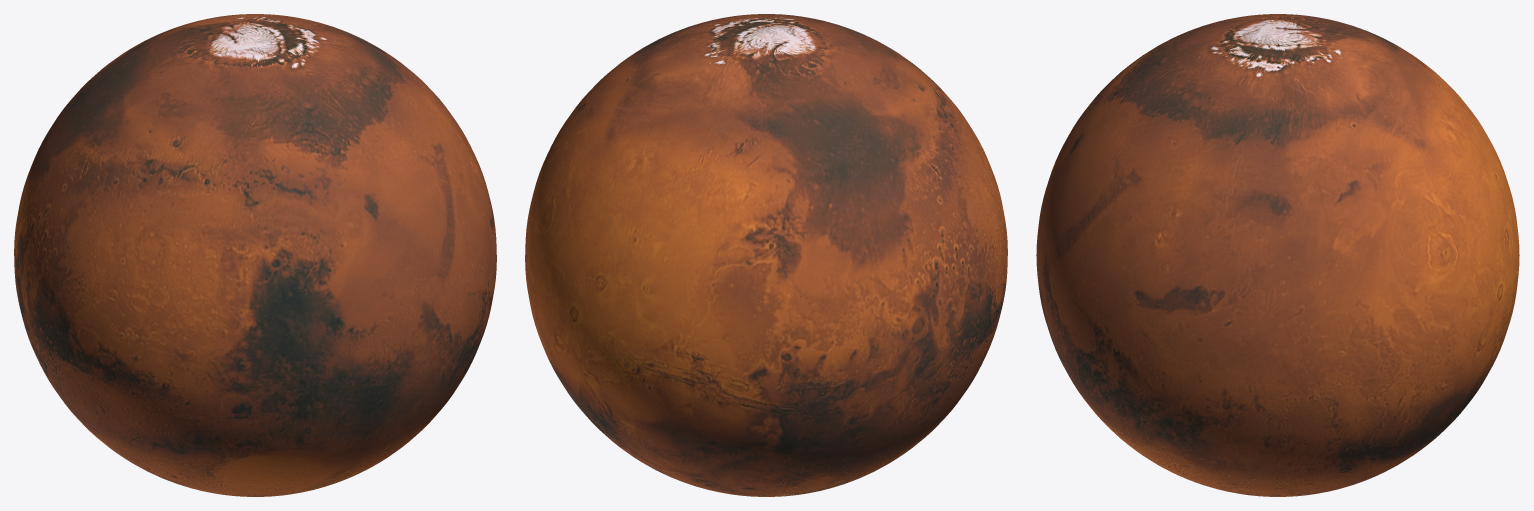
Rendered from mars.obj.
3 renders of one model, left to right at view 1: azimuth 30°, elevation 25°; view 2: azimuth 150°, elevation 25°; view 3: azimuth 270°, elevation 25°, orthographic.
Parts seen in each view (by area): view 1: Sphere.002_Sphere; view 2: Sphere.002_Sphere; view 3: Sphere.002_Sphere.
Boxes of the visible parts, x1=… form: Sphere.002_Sphere: x1=14, y1=14, x2=496, y2=496; Sphere.002_Sphere: x1=525, y1=14, x2=1007, y2=496; Sphere.002_Sphere: x1=1036, y1=14, x2=1519, y2=496.
Size of the model in its own units: 4 by 4 by 4.
Materials: 1 (1 with a texture image).
